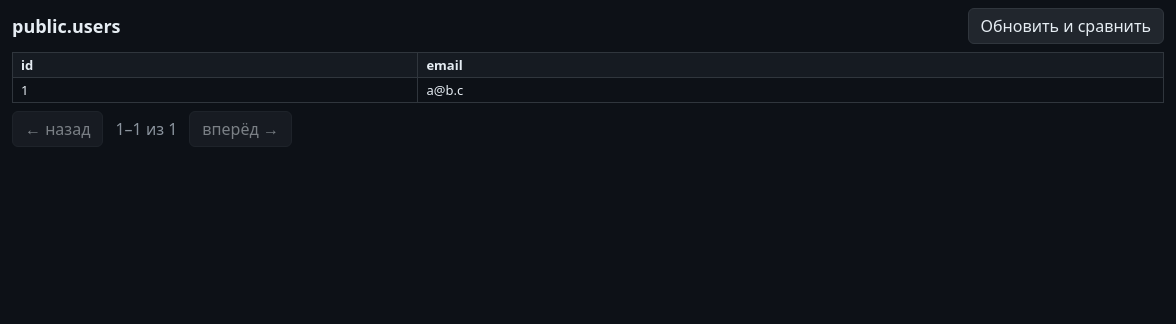
Test: RowsExplorer › refreshes data and shows a row-level diff after "Обновить и сравнить"
This screenshot has width=1176, height=324.
Expected: the text "a@b.c" is shown, [418,78,1164,102]
Click the button "Обновить и сравнить" at (1066, 26), box [968,8,1164,44]
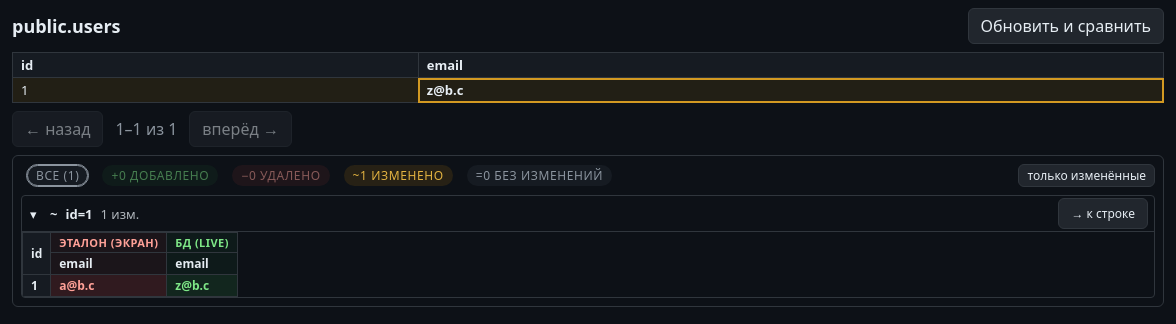
Now the button "~1 изменено" is shown, box [344,165,453,186]
Now the column heading "БД (live)" is shown, box [167,232,237,252]
Now the number of cells with class "cell-changed" is 1, box [418,78,1164,102]
